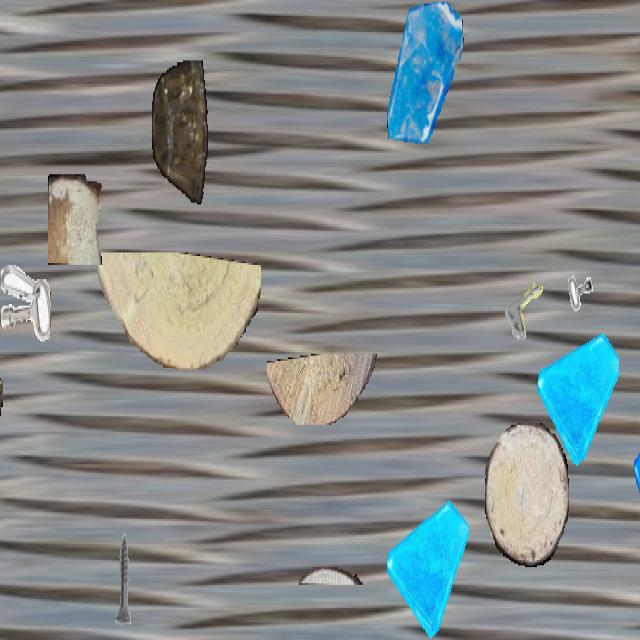glass: (387, 492, 469, 638), (537, 320, 619, 466), (385, 2, 465, 144), (634, 432, 640, 567)
metal: (501, 251, 561, 357), (96, 530, 150, 626), (555, 268, 605, 358), (0, 262, 50, 351)
plastic: (152, 60, 208, 206)
wood: (90, 252, 260, 370), (485, 423, 569, 565), (267, 354, 379, 425), (48, 174, 102, 263), (299, 567, 363, 585), (0, 359, 2, 452)
